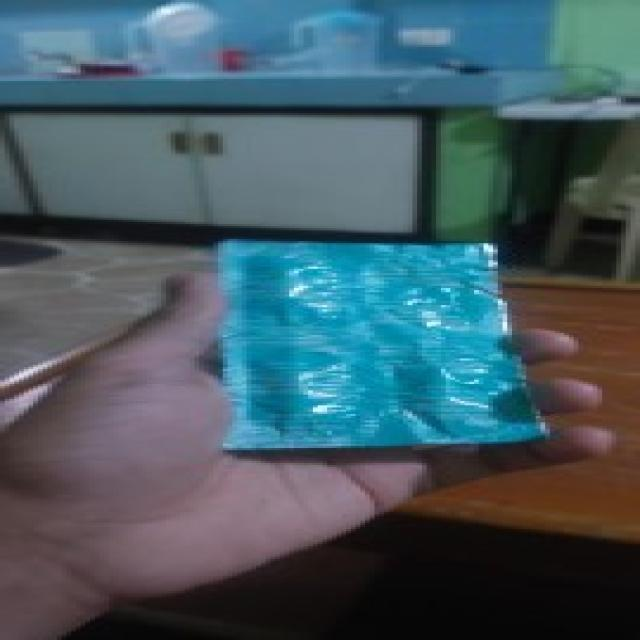Cacat: (227, 238, 543, 451)
